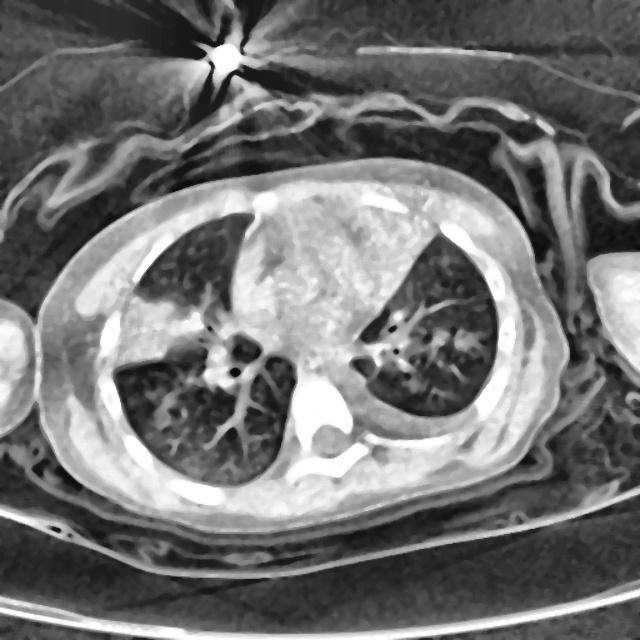covid: (31, 155, 570, 542)
